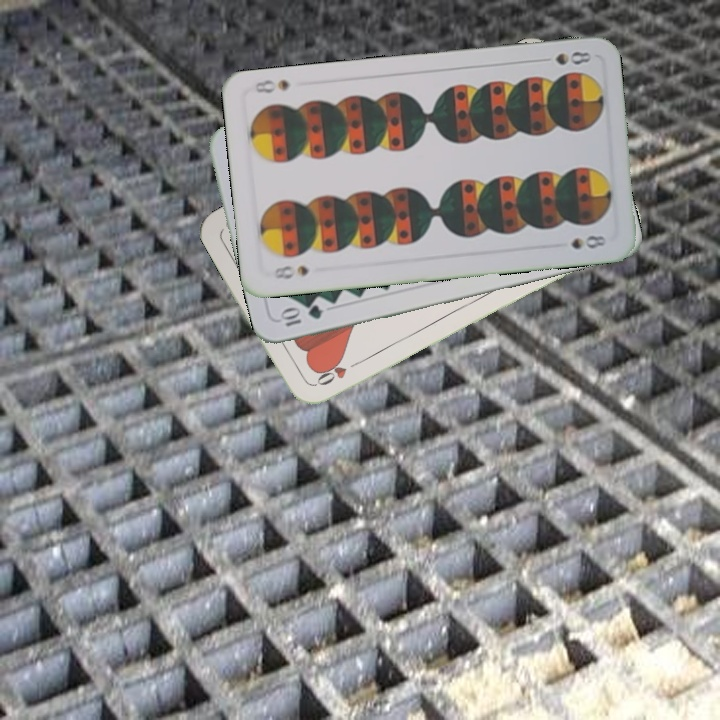G10: (276, 301, 326, 329)
HO: (310, 356, 365, 389)
S8: (535, 47, 594, 68), (270, 261, 312, 282)
